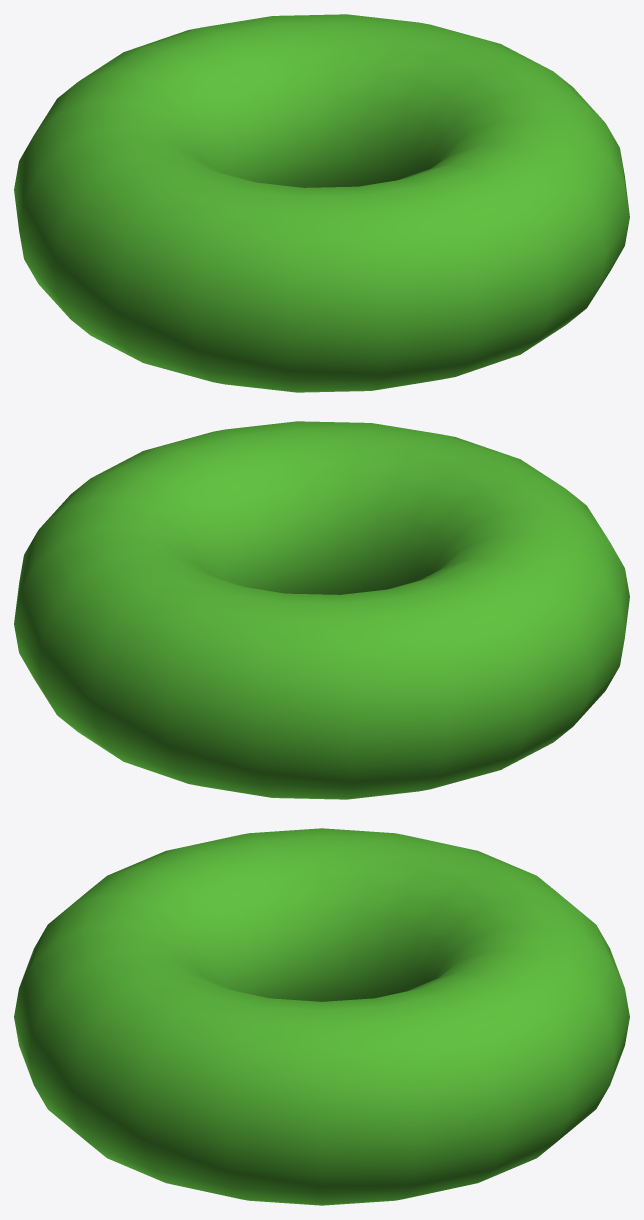
Rendered from GreenTorus.gltf.
The picture shows the model from 3 angles, top to bottom: view 1: azimuth 30°, elevation 25°; view 2: azimuth 150°, elevation 25°; view 3: azimuth 270°, elevation 25°; orthographic projection.
Parts seen in each view (by area): view 1: pTorus1; view 2: pTorus1; view 3: pTorus1.
Part boxes in pixels (x1,y1,x2,y2): pTorus1: (14,14,629,392); pTorus1: (14,421,629,799); pTorus1: (14,828,629,1205).
Size of the model in its own units: 3 by 1 by 3.
